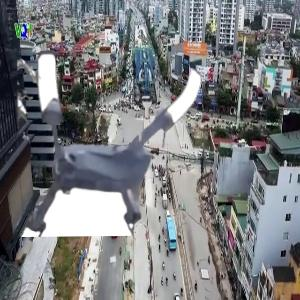drone: (18, 41, 214, 237)
